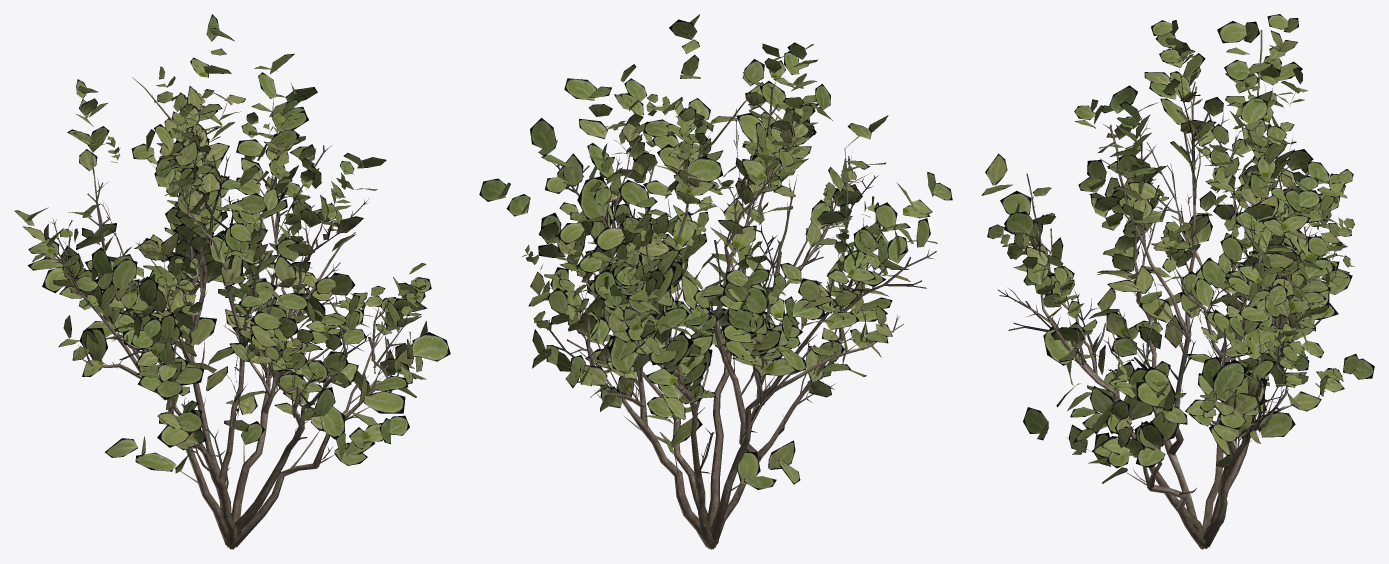
Rendered from arbuste_searsia_d_lod0.glb.
3 views of the same model, side by side, from view 1: azimuth 30°, elevation 25°; view 2: azimuth 150°, elevation 25°; view 3: azimuth 270°, elevation 25° (orthographic). The views are drawn at different scales.
Parts seen in each view (by area): view 1: searsia_lucida_d_LOD0; view 2: searsia_lucida_d_LOD0; view 3: searsia_lucida_d_LOD0.
Part boxes in pixels (left/top/right/bottom): searsia_lucida_d_LOD0: left=14, top=14, right=450, bottom=549; searsia_lucida_d_LOD0: left=479, top=14, right=952, bottom=549; searsia_lucida_d_LOD0: left=981, top=14, right=1374, bottom=549.
Bounding box in the file's own units: 1.08 × 1.4 × 0.944.
2 materials, 2 textured.
